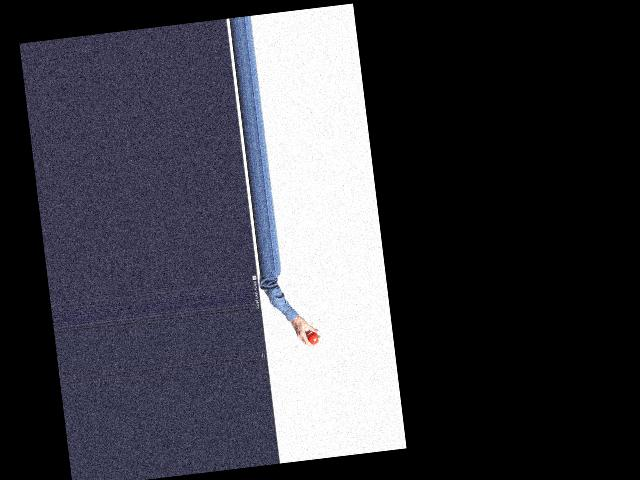tomato: (307, 332, 318, 345)
